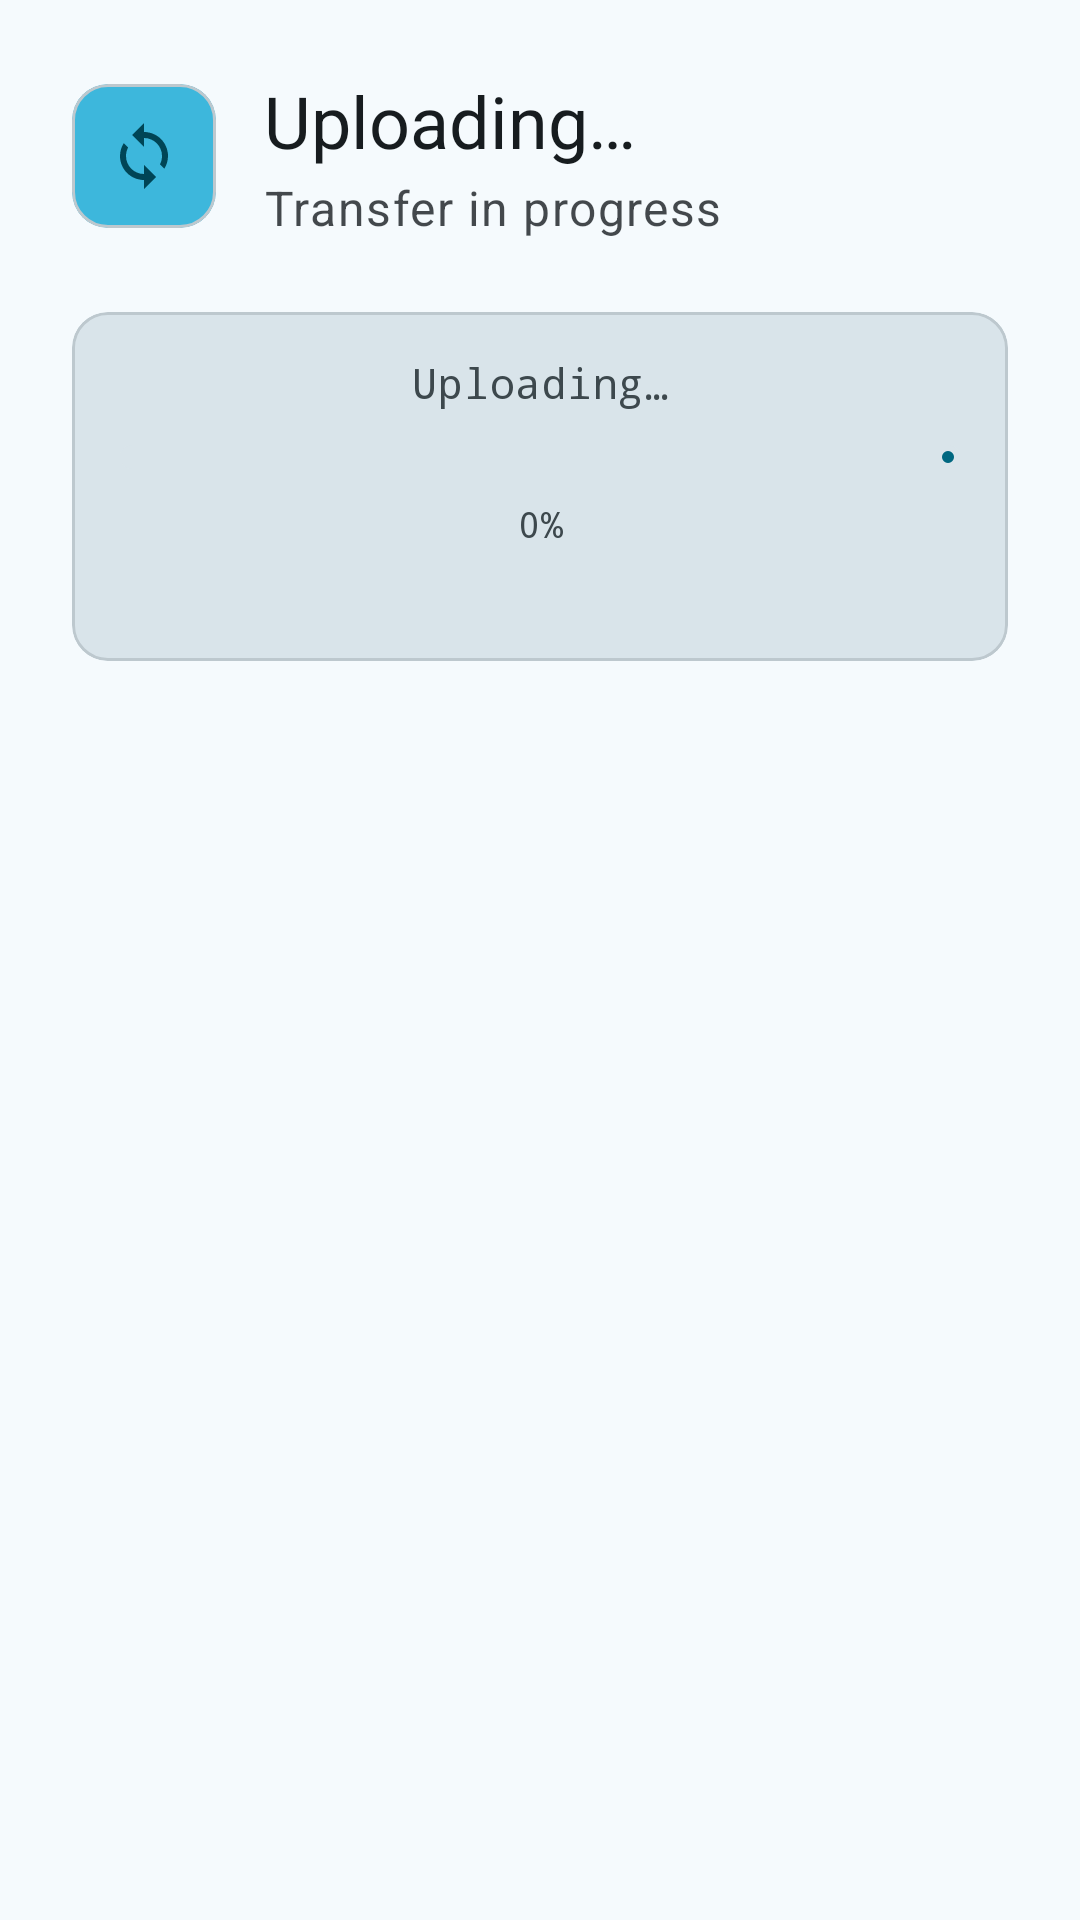

Named icons in this screenshot (1080×1920) and their bounding boxes, (x1,y1,x2,y2):
sync: (120,123,168,189)
